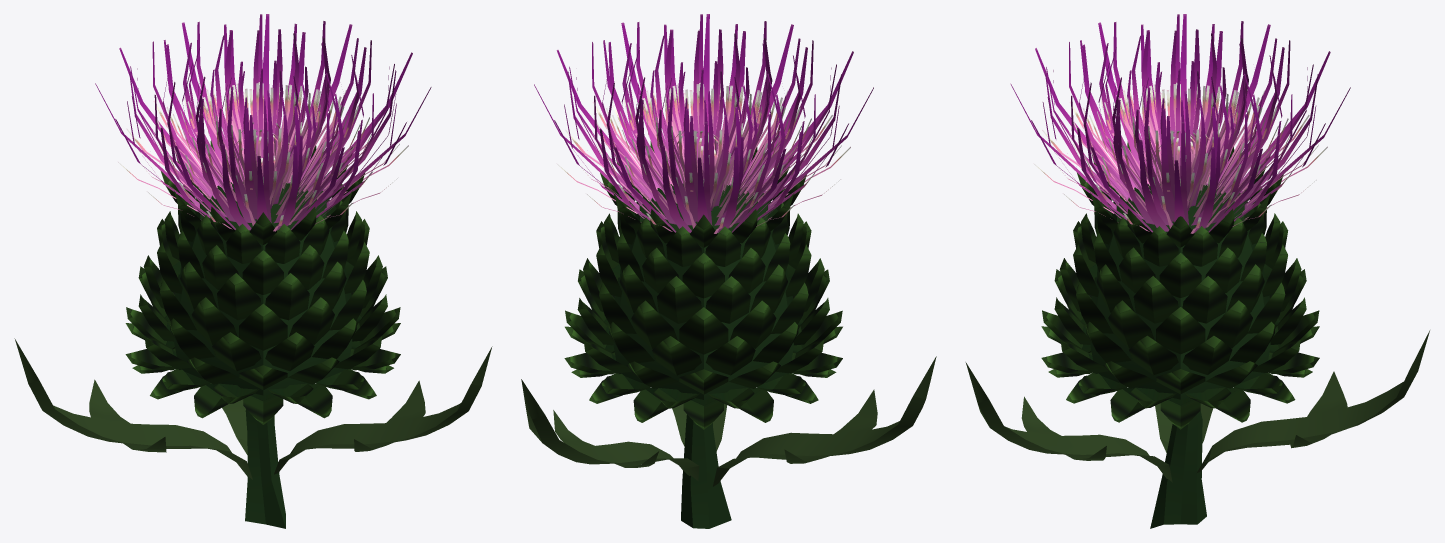
The model's file is Thistle_higher_poly 1.fbx.
The picture shows the model from 3 angles, left to right: view 1: azimuth 30°, elevation 25°; view 2: azimuth 150°, elevation 25°; view 3: azimuth 270°, elevation 25°; orthographic projection.
Parts seen in each view (by area): view 1: Base_Geo, Leaf2, Leaf3, Stem, Sepal_5_2, Sepal_6_2, Sepal_6_3, Sepal_7_2, Sepal_5_3, Sepal_5_1, Sepal_4_2, Sepal_4_3 (+35 smaller); view 2: Base_Geo, Leaf2, Leaf1, Stem, Sepal_5_11, Sepal_6_5, Sepal_6_11, Sepal_7_11, Sepal_5_5, Sepal_4_5, Sepal_5_12, Sepal_4_11 (+56 smaller); view 3: Base_Geo, Leaf1, Leaf3, Stem, Sepal_5_8, Sepal_6_10, Sepal_6_8, Sepal_7_8, Sepal_5_7, Sepal_5_10, Sepal_4_8, Sepal_4_10 (+47 smaller).
Boxes of the visible parts, x1,y1,x2,y2 form: Base_Geo: (174, 182, 352, 395); Leaf2: (14, 338, 252, 479); Leaf3: (274, 346, 492, 474); Stem: (245, 409, 285, 528); Sepal_5_2: (239, 303, 287, 350); Sepal_6_2: (265, 273, 309, 320); Sepal_6_3: (217, 273, 261, 320); Sepal_7_2: (242, 250, 283, 294); Sepal_5_3: (191, 297, 237, 344); Sepal_5_1: (289, 297, 334, 344); Sepal_4_2: (265, 332, 314, 371); Sepal_4_3: (212, 332, 261, 371); Base_Geo: (613, 184, 793, 399); Leaf2: (713, 356, 936, 486); Leaf1: (521, 379, 699, 480); Stem: (681, 414, 731, 528); Sepal_5_11: (679, 307, 728, 354); Sepal_6_5: (657, 276, 701, 323); Sepal_6_11: (705, 276, 750, 323); Sepal_7_11: (682, 253, 724, 298); Sepal_5_5: (631, 300, 677, 348); Sepal_4_5: (652, 336, 701, 375); Sepal_5_12: (730, 300, 776, 348); Sepal_4_11: (706, 336, 755, 375); Base_Geo: (1090, 184, 1270, 399); Leaf1: (1196, 330, 1429, 473); Leaf3: (965, 362, 1172, 482); Stem: (1150, 410, 1206, 528); Sepal_5_8: (1156, 307, 1205, 354); Sepal_6_10: (1133, 276, 1178, 323); Sepal_6_8: (1182, 276, 1227, 323); Sepal_7_8: (1159, 252, 1201, 297); Sepal_5_7: (1206, 300, 1252, 348); Sepal_5_10: (1108, 300, 1154, 348); Sepal_4_8: (1182, 335, 1232, 374); Sepal_4_10: (1129, 335, 1178, 374).
Size of the model in its own units: 17.86 by 20.31 by 18.42.
